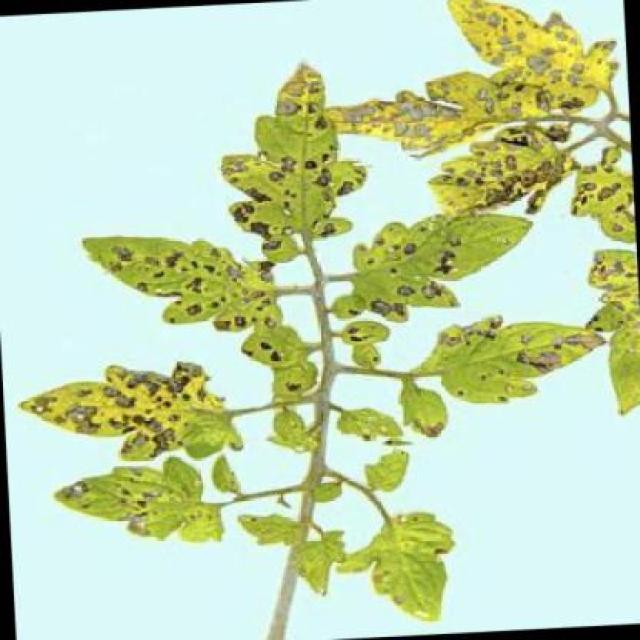Septoria leaf spot: (370, 279, 628, 443), (203, 36, 372, 276), (328, 175, 549, 340), (4, 354, 256, 472), (63, 226, 295, 351), (10, 450, 238, 568), (418, 105, 604, 217), (331, 489, 477, 626)
